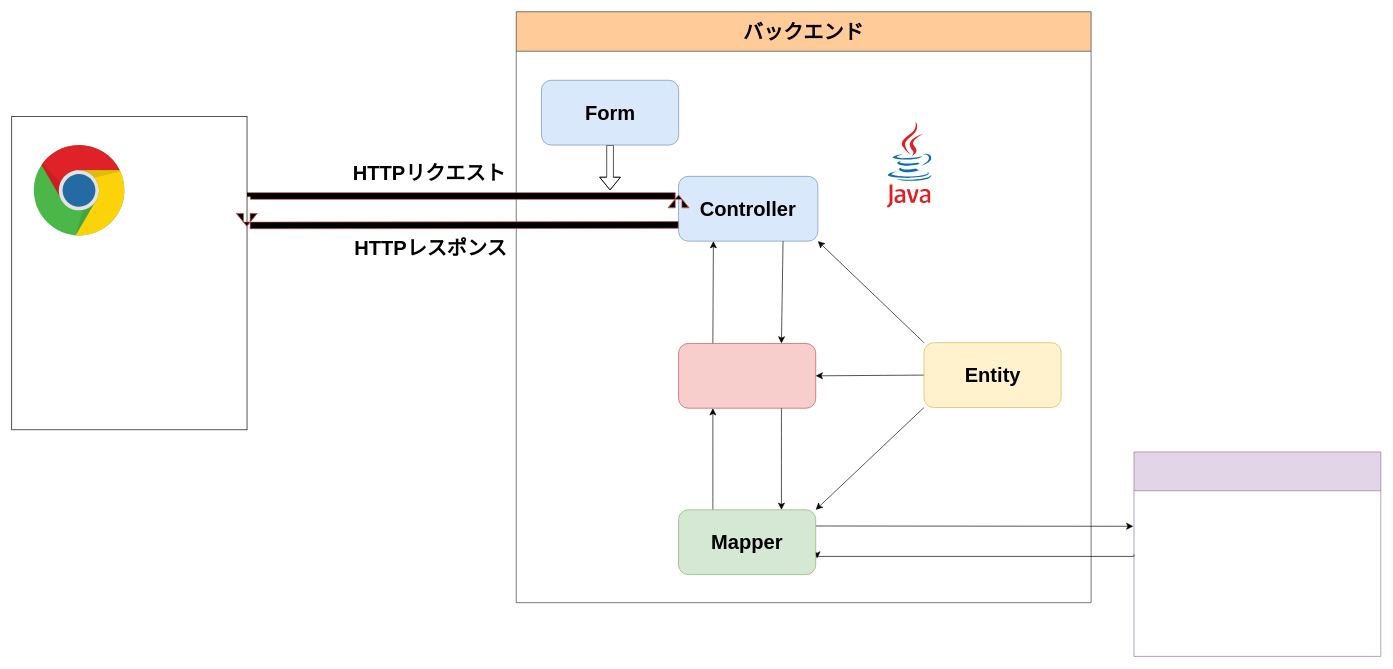
The diagram is 1393 pixels wide and 669 high, and some of its shapes have lost their labels. The shapes that lost their labels are listed below. From the top down, each one's centre as x and y in pixels, then its label:
At (x=747, y=375): "Service".
At (x=1257, y=553): "データベース".
